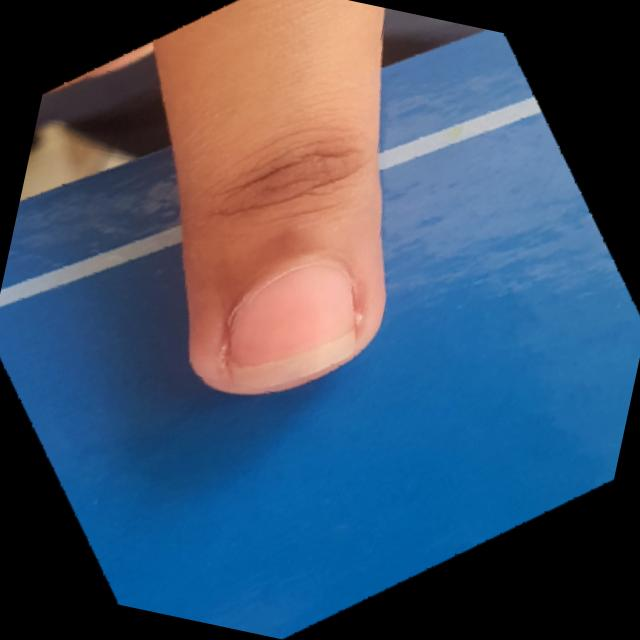Nail: (229, 260, 353, 388)
